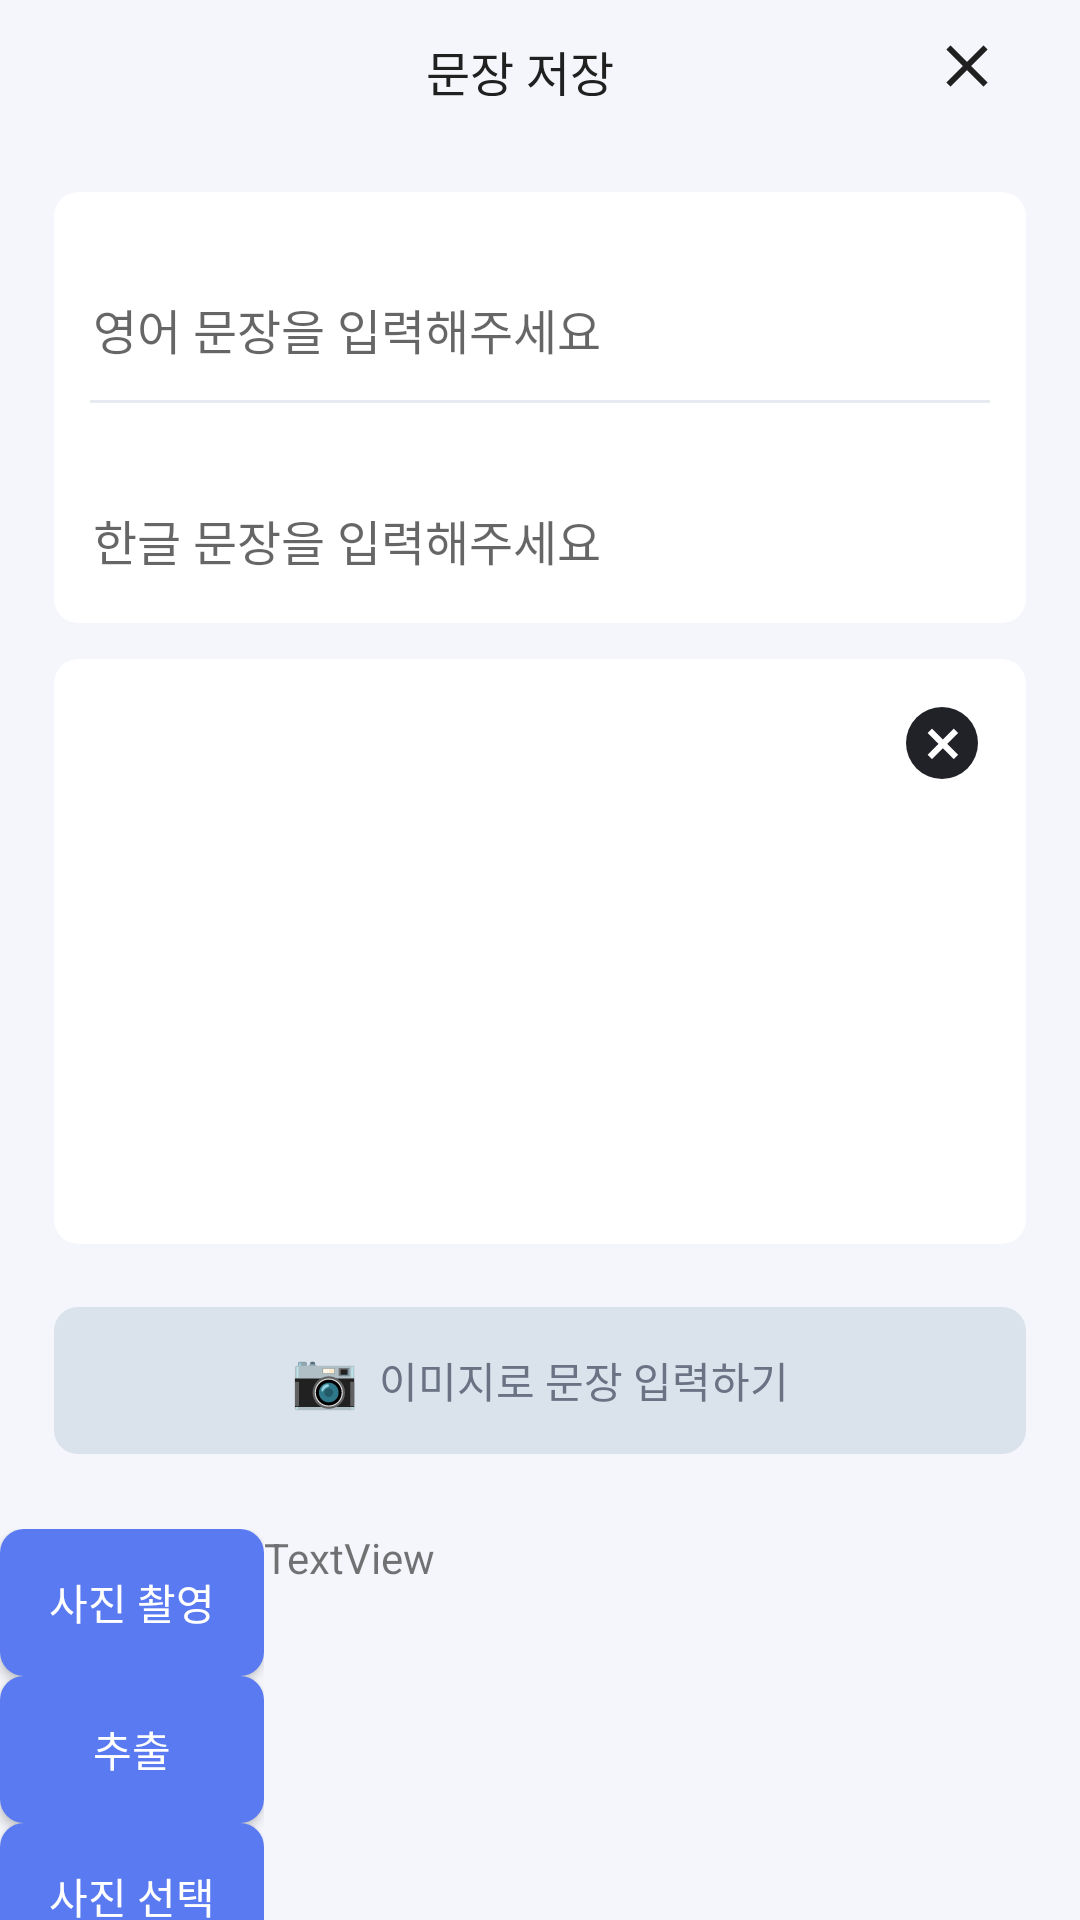

Named icons in this screenshot (1080 x 1920) and their bounding boxes, box(x1, y1, x2, y2):
close: box(946, 45, 988, 87)
delete: box(906, 707, 978, 779)
